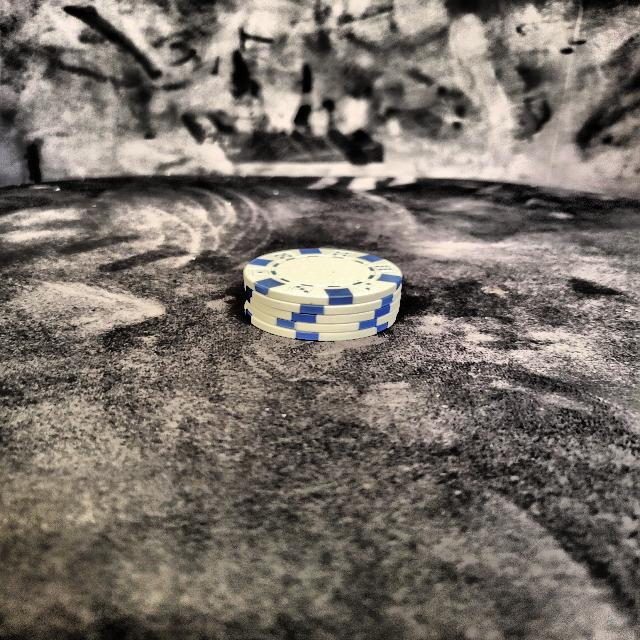Chip: (235, 222, 408, 366)
